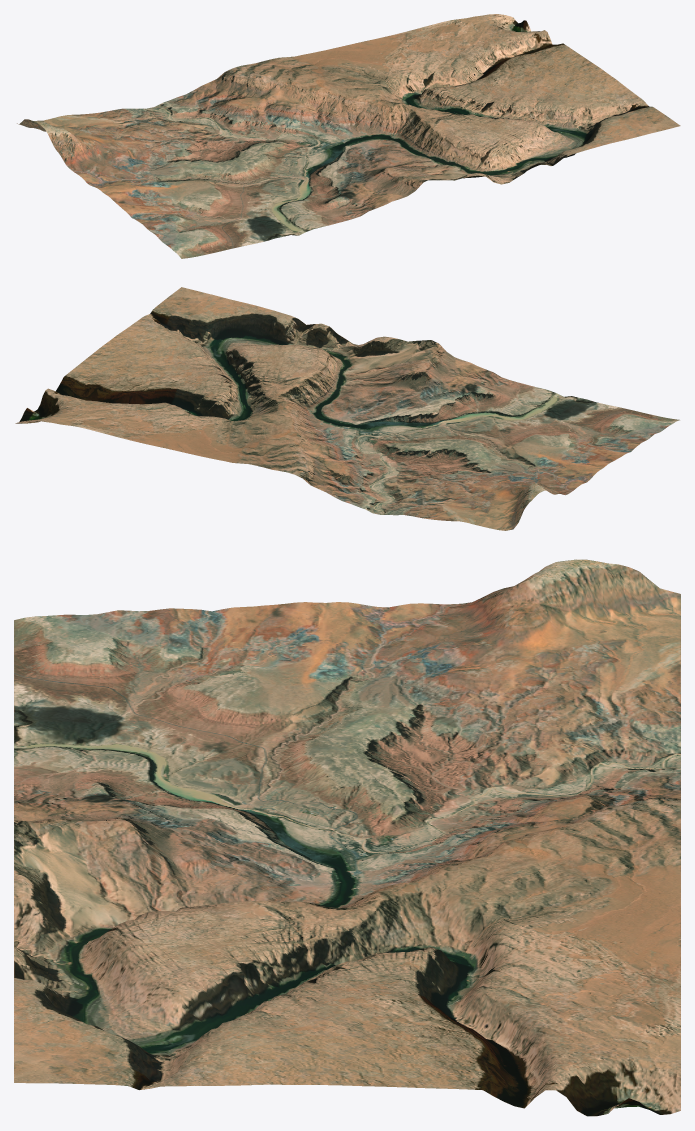
Rendered from sequia.glb.
3 renders of one model, top to bottom at view 1: azimuth 30°, elevation 25°; view 2: azimuth 150°, elevation 25°; view 3: azimuth 270°, elevation 25°, orthographic. The views are drawn at different scales.
Parts seen in each view (by area): view 1: Object_2; view 2: Object_2; view 3: Object_2.
Boxes of the visible parts, x1,y1,x2,y2 form: Object_2: (17, 14, 680, 258); Object_2: (15, 287, 679, 530); Object_2: (14, 559, 680, 1116).
Bounding box in the file's own units: 13147 × 927 × 7644.
Materials: 1 (1 with a texture image).
